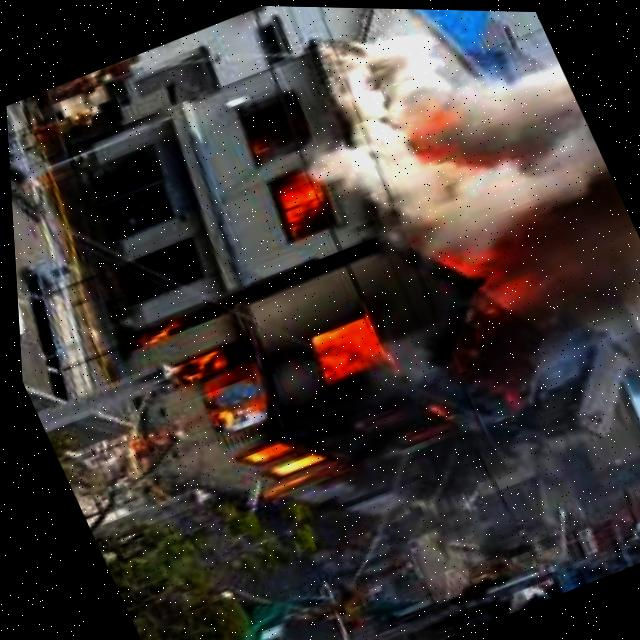Fire: (77, 175, 604, 550), (259, 165, 336, 238)
Smoke: (319, 6, 604, 236), (459, 145, 640, 363)
